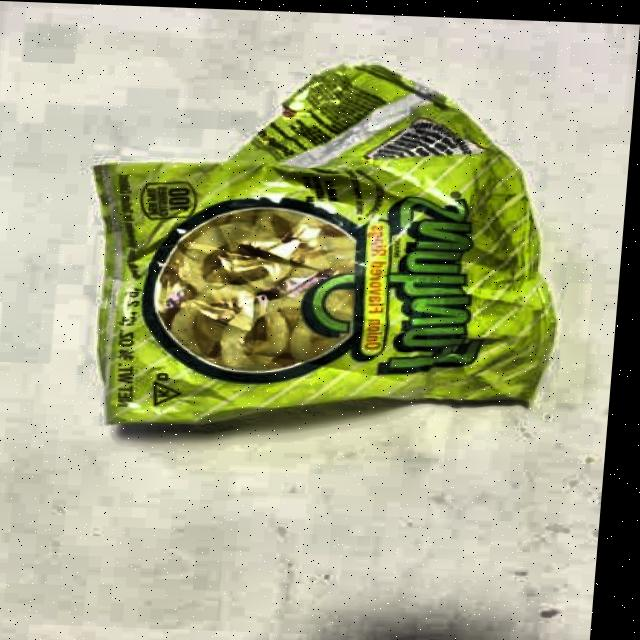plastic: (36, 38, 590, 479)
